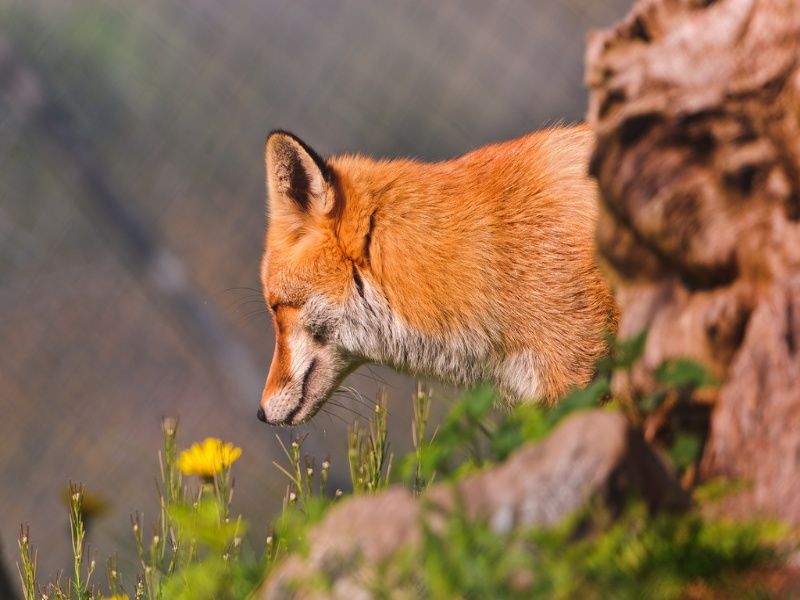fox: (248, 108, 653, 437)
